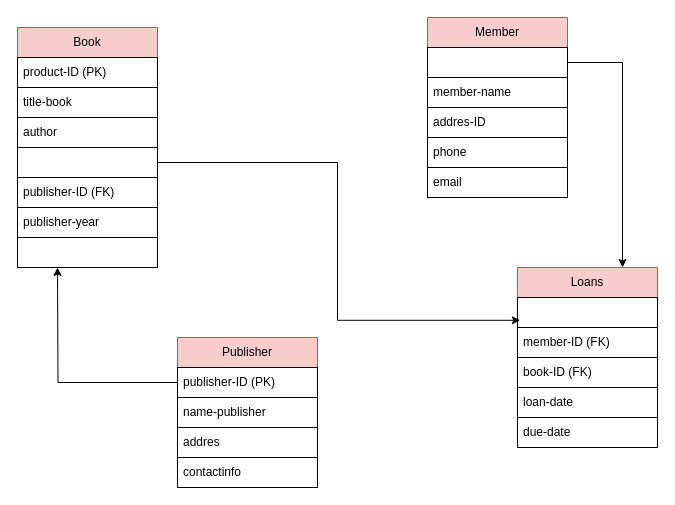
Some shapes in this 675 by 505 pixel diagram are drawn without their labels. Here are the shapes that lost their labels. From the top down, the box of each, then its label:
(426, 46, 568, 78): member-ID (PK)
(16, 146, 158, 178): ISBN
(16, 236, 158, 268): type-book
(516, 296, 658, 328): loan-ID (PK)
